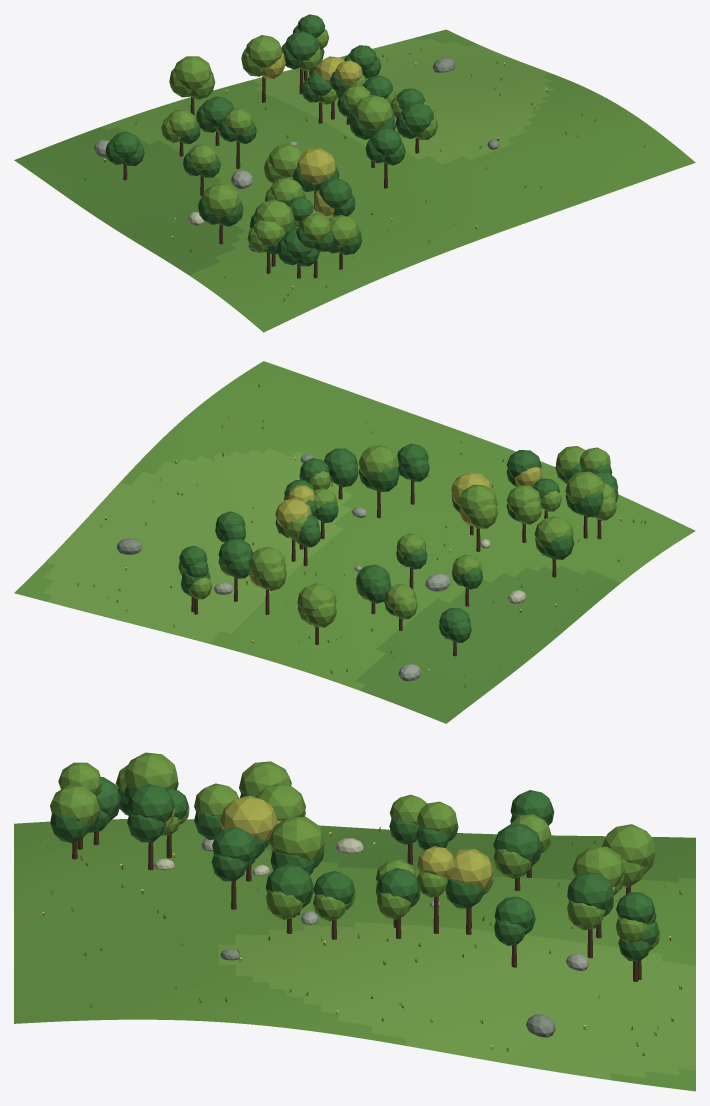
Rendered from Chunk_X-3_Y0_Z-2.fbx.
3 renders of one model, top to bottom at view 1: azimuth 30°, elevation 25°; view 2: azimuth 150°, elevation 25°; view 3: azimuth 270°, elevation 25°, orthographic. The views are drawn at different scales.
Parts seen in each view (by area): view 1: Terrain.001, Canopies.001, Trunks.001, Rocks.001; view 2: Terrain.001, Canopies.001, Rocks.001, Trunks.001, GroundCover.001; view 3: Terrain.001, Canopies.001, Trunks.001, Rocks.001, GroundCover.001.
Boxes of the visible parts, left/top/right/bottom form: Terrain.001: left=14, top=29, right=695, bottom=332; Canopies.001: left=105, top=14, right=437, bottom=266; Trunks.001: left=123, top=68, right=419, bottom=278; Rocks.001: left=94, top=57, right=499, bottom=251; Terrain.001: left=14, top=361, right=695, bottom=723; Canopies.001: left=178, top=443, right=618, bottom=642; Rocks.001: left=116, top=454, right=526, bottom=681; Trunks.001: left=191, top=481, right=601, bottom=656; GroundCover.001: left=77, top=384, right=646, bottom=687; Terrain.001: left=14, top=819, right=695, bottom=1091; Canopies.001: left=50, top=752, right=660, bottom=961; Trunks.001: left=72, top=831, right=641, bottom=981; Rocks.001: left=154, top=838, right=588, bottom=1037; GroundCover.001: left=41, top=826, right=681, bottom=1055.
Bounding box in the file's own units: 100 × 26.12 × 100.
